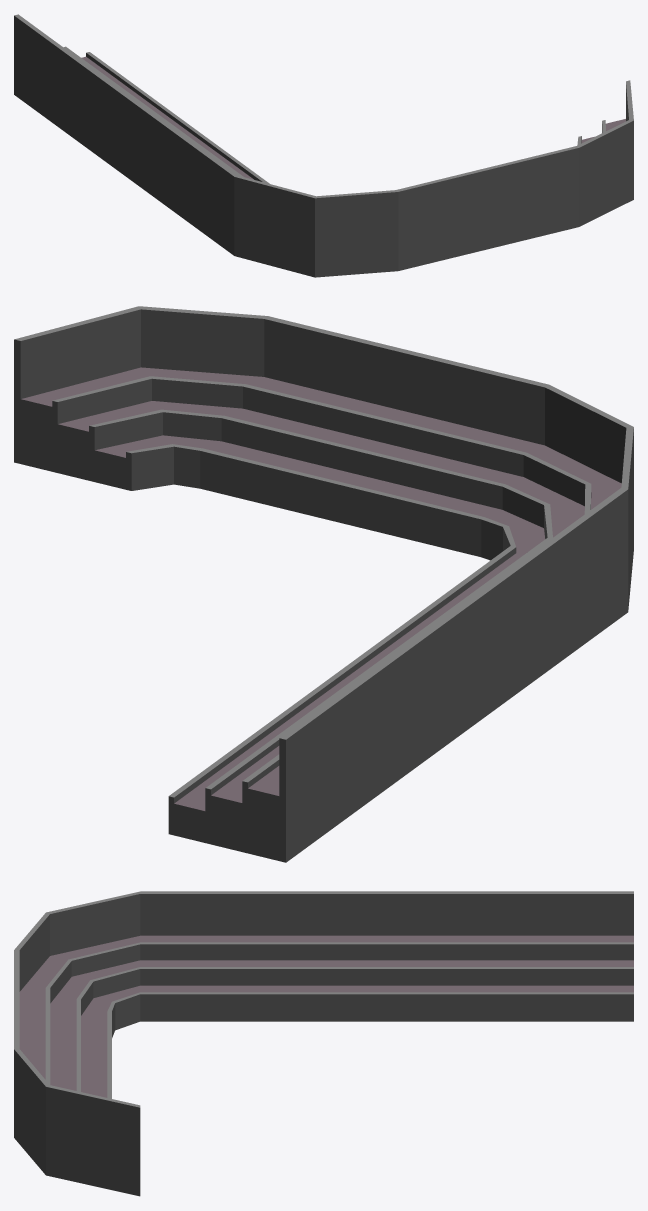
The model's file is um quarto de uma quadra.gltf.
3 renders of one model, top to bottom at view 1: azimuth 30°, elevation 25°; view 2: azimuth 150°, elevation 25°; view 3: azimuth 270°, elevation 25°, orthographic. The views are drawn at different scales.
Parts seen in each view (by area): view 1: regular_3.001; view 2: regular_3.001; view 3: regular_3.001.
Boxes of the visible parts, x1,y1,x2,y2 form: regular_3.001: (14, 14, 633, 277); regular_3.001: (14, 306, 633, 862); regular_3.001: (14, 891, 633, 1196).
Size of the model in its own units: 354 by 67.71 by 429.
Materials: 1 (1 with a texture image).
